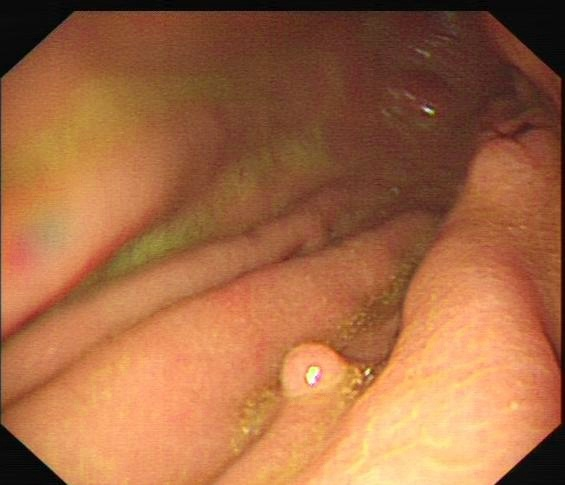Polyp: (275, 334, 355, 403)
